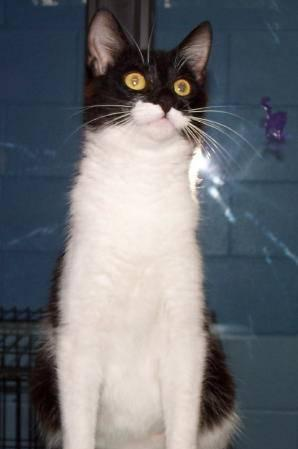cat: (29, 0, 243, 449)
